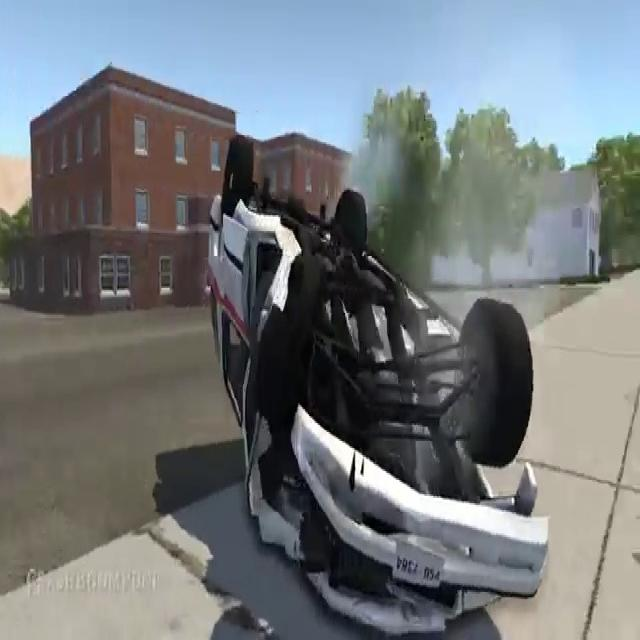severe: (201, 124, 554, 640)
